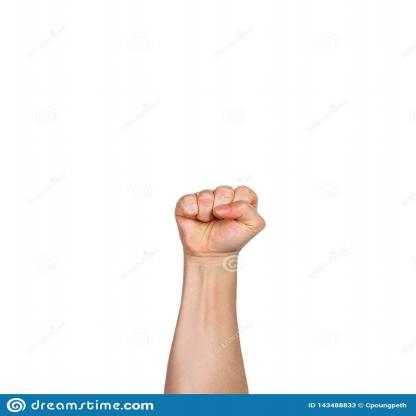fist: (166, 182, 272, 279)
